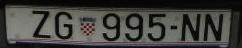-: (169, 25, 178, 30)
5: (147, 14, 166, 41)
9: (102, 13, 120, 41), (125, 13, 143, 41)
G: (56, 11, 73, 40)
N: (182, 13, 201, 42), (204, 13, 223, 42)
Z: (31, 9, 52, 39)
